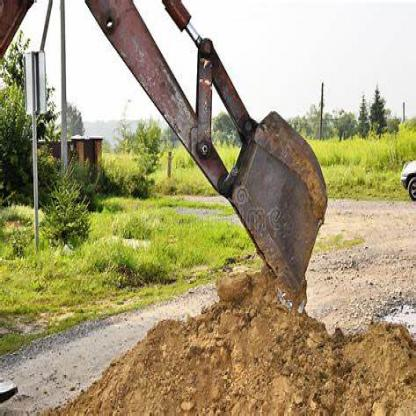excavator: (4, 0, 324, 341)
